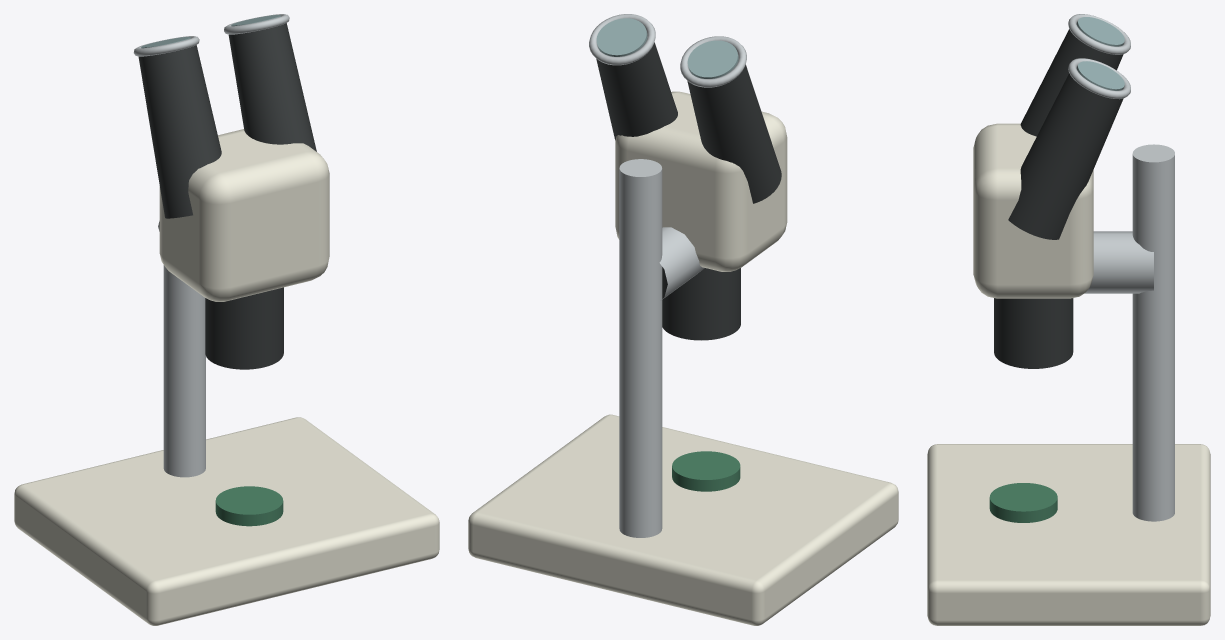
The model's file is clockmaker-and-watch-repair-binocular-microscope-398db953__30599.glb.
The picture shows the model from 3 angles, left to right: view 1: azimuth 30°, elevation 25°; view 2: azimuth 150°, elevation 25°; view 3: azimuth 270°, elevation 25°; orthographic projection.
Parts seen in each view (by area): view 1: binocular-microscope; view 2: binocular-microscope; view 3: binocular-microscope.
Boxes of the visible parts, x1=… form: binocular-microscope: x1=14, y1=14, x2=439, y2=625; binocular-microscope: x1=468, y1=14, x2=898, y2=625; binocular-microscope: x1=927, y1=14, x2=1210, y2=625.
Size of the model in its own units: 0.24 by 0.4015 by 0.2.
